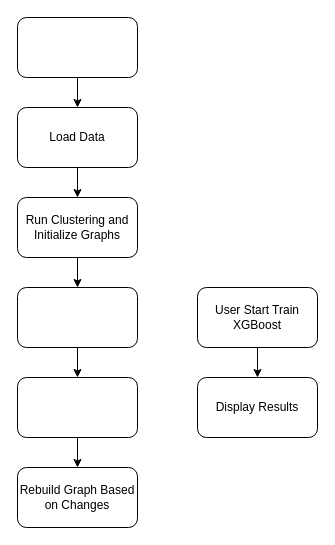
Some shapes in this 335 by 545 pixel diagram are drawn without their labels. Each missing label, with the centre of its shape:
Show Graphs: pixel 77 317
Start: pixel 77 47
User Change Settings: pixel 77 407
